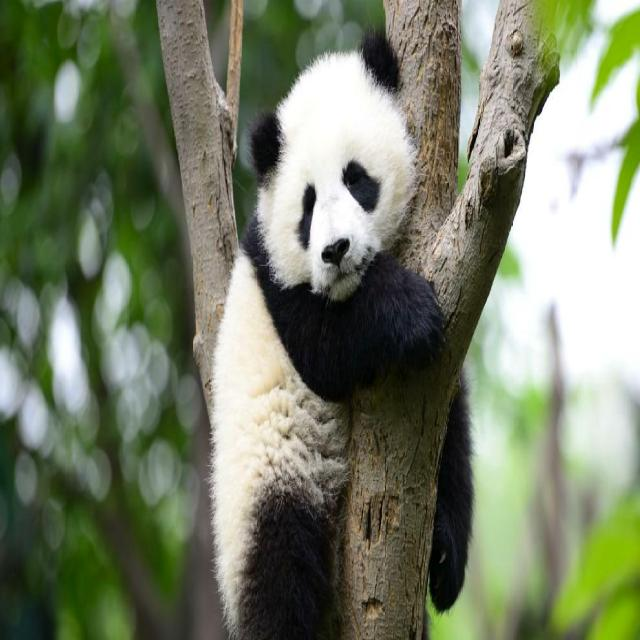panda: (212, 33, 443, 639)
